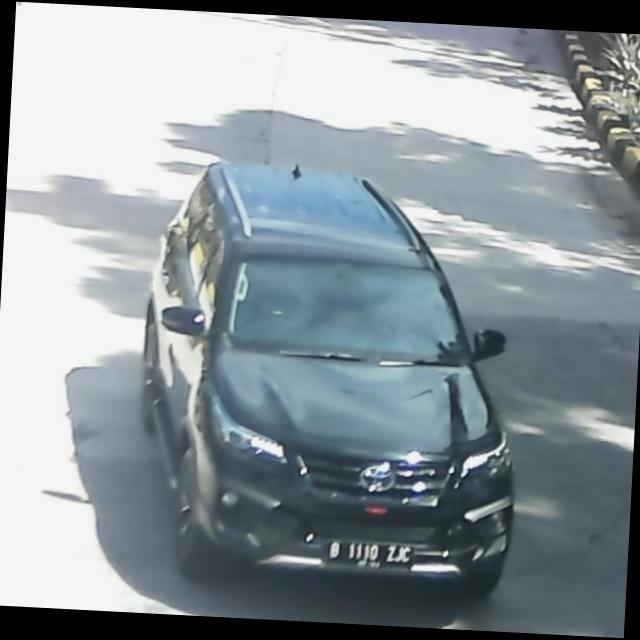plate: (318, 538, 421, 576)
